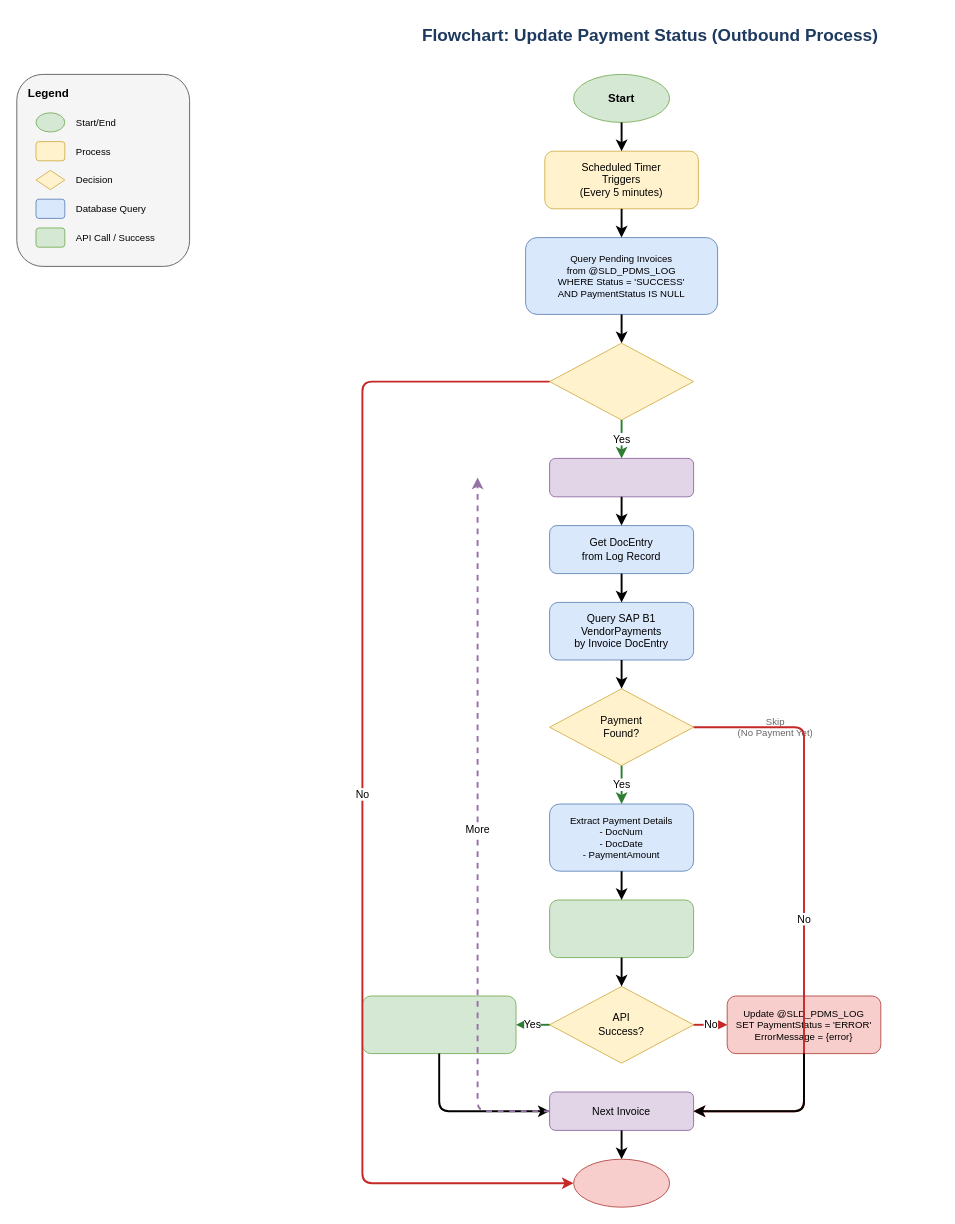
Some shapes in this 955 by 1224 pixel diagram are drawn without their labels. The centre of each missing label's shape, as x and y in pixels:
"Call PDMS API PATCH /api/invoices/{id} Update Payment Status" belongs at (x=621, y=928).
"End" belongs at (x=621, y=1182).
"For Each Invoice" belongs at (x=621, y=477).
"Has Pending Invoices?" belongs at (x=621, y=381).
"Update @SLD_PDMS_LOG SET PaymentStatus = 'PAID' PaymentDocNum = {docnum}" belongs at (x=438, y=1024).
